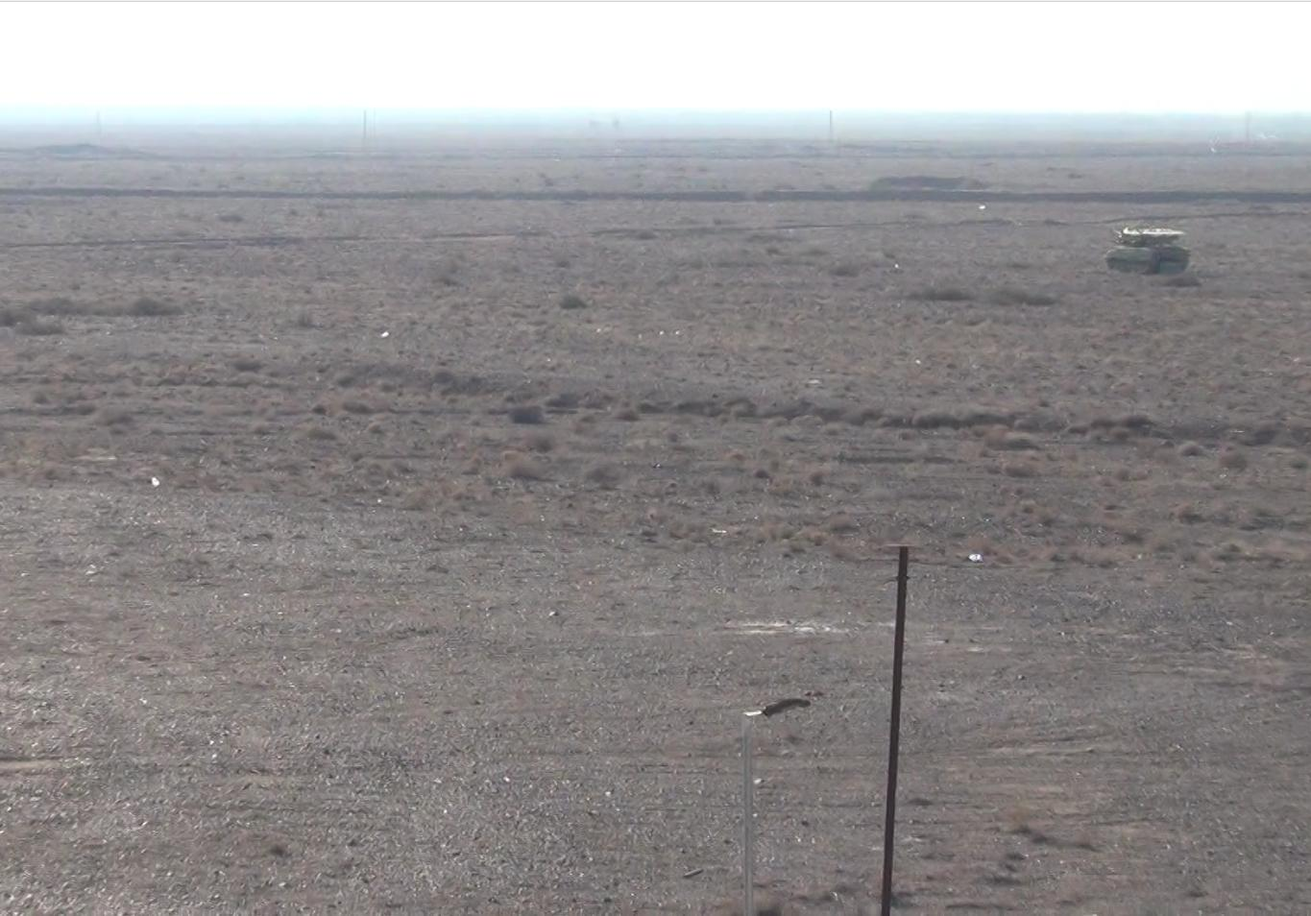armored_car: (1101, 223, 1197, 279)
